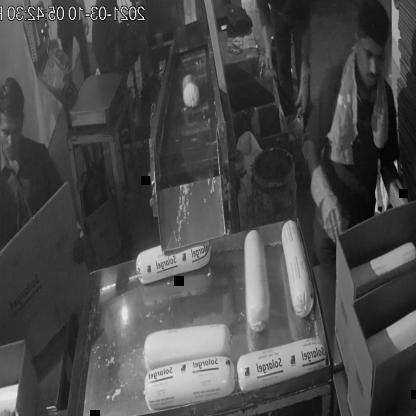glove: (302, 149, 349, 246), (293, 52, 314, 119), (258, 18, 279, 80)
